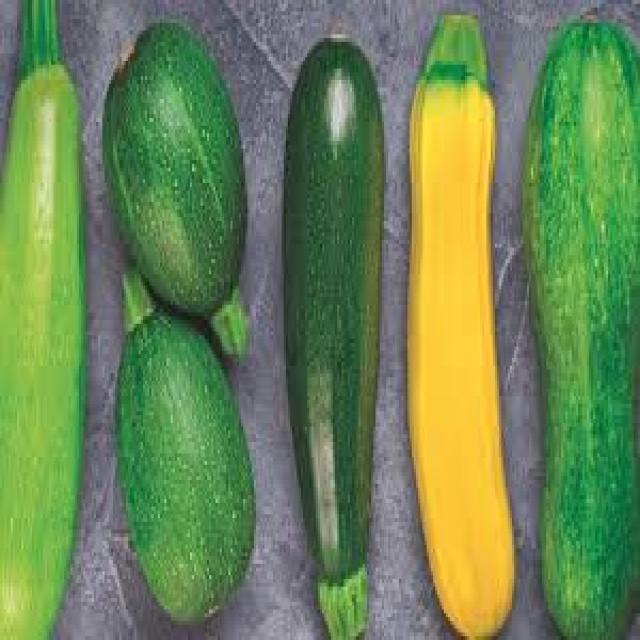Zucchini: (283, 45, 382, 640)
